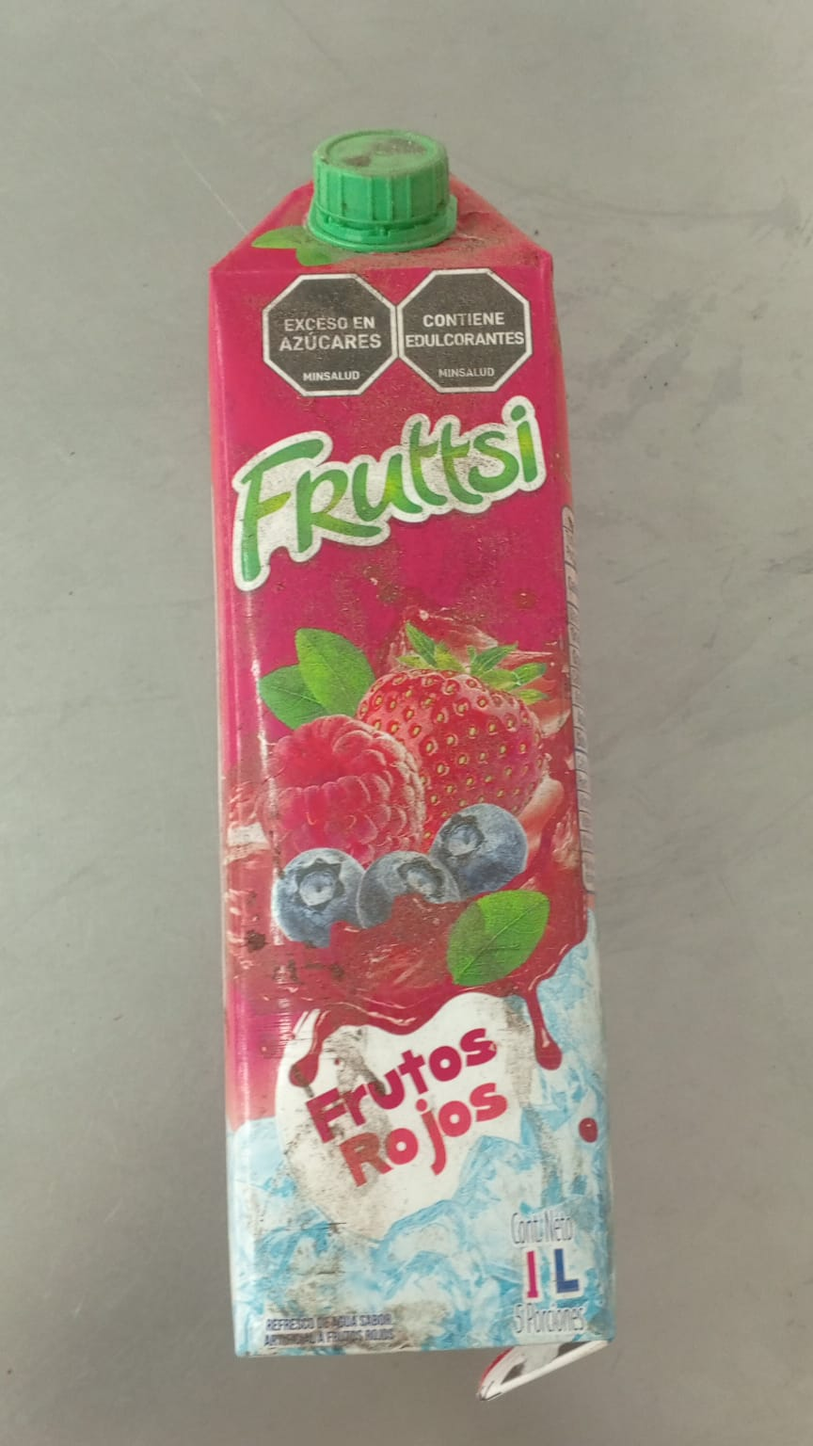Carton: (214, 121, 605, 1363)
